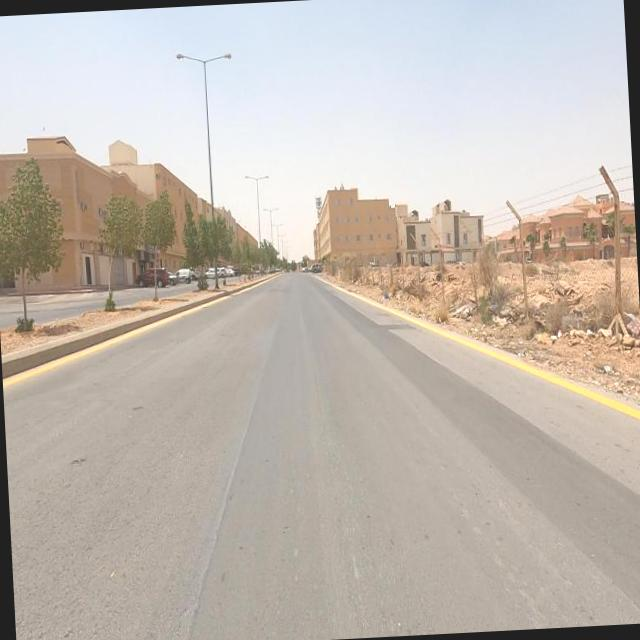debris: (508, 270, 606, 400), (424, 262, 494, 350), (354, 260, 420, 326), (471, 282, 528, 346)
